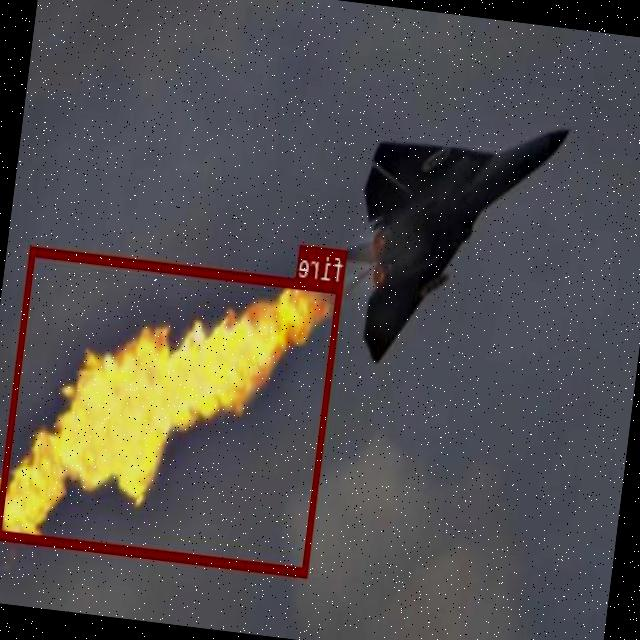fire: (0, 245, 343, 576)
